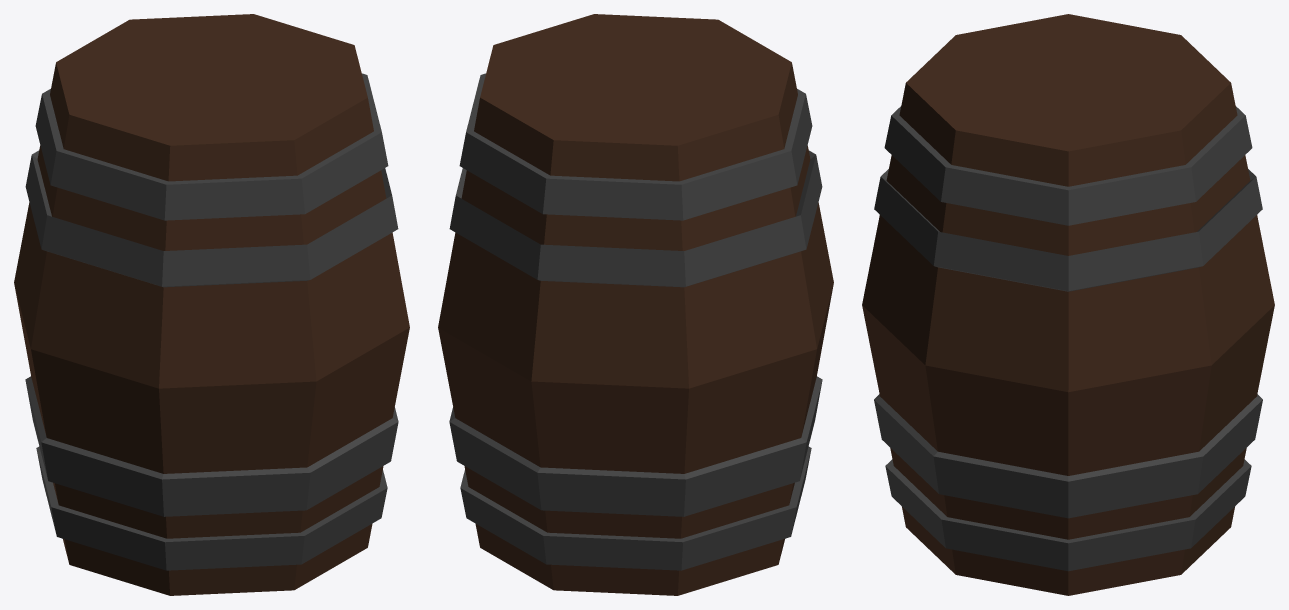
Rendered from barel.fbx.
The picture shows the model from 3 angles, left to right: view 1: azimuth 30°, elevation 25°; view 2: azimuth 150°, elevation 25°; view 3: azimuth 270°, elevation 25°; orthographic projection.
Visible parts, largest first — view 1: Cube; view 2: Cube; view 3: Cube.
Boxes of the visible parts, x1,y1,x2,y2 form: Cube: (14, 14, 409, 595); Cube: (438, 14, 833, 595); Cube: (862, 14, 1274, 595).
Size of the model in its own units: 297 by 353 by 297.
